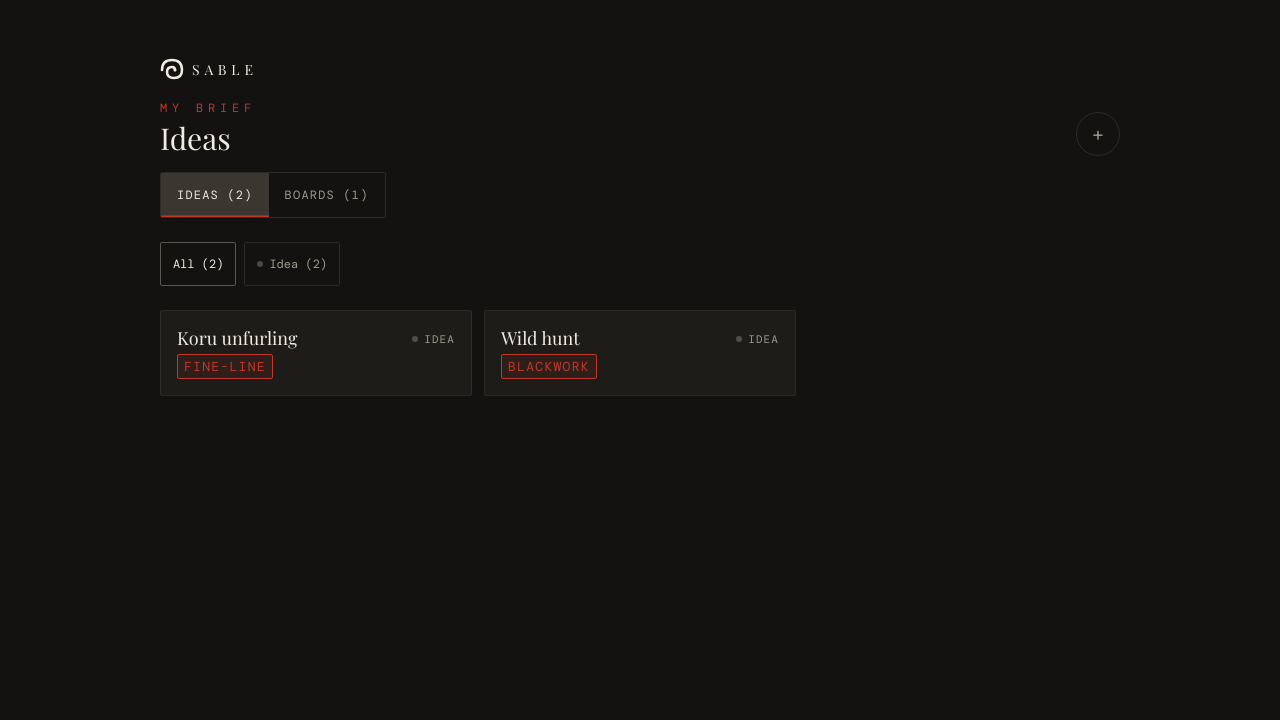
it: Brief Ideas | Boards tabs › switches to Boards and back
Click the button "Boards (1)".
click(327, 195)  # box [269,173,385,217]
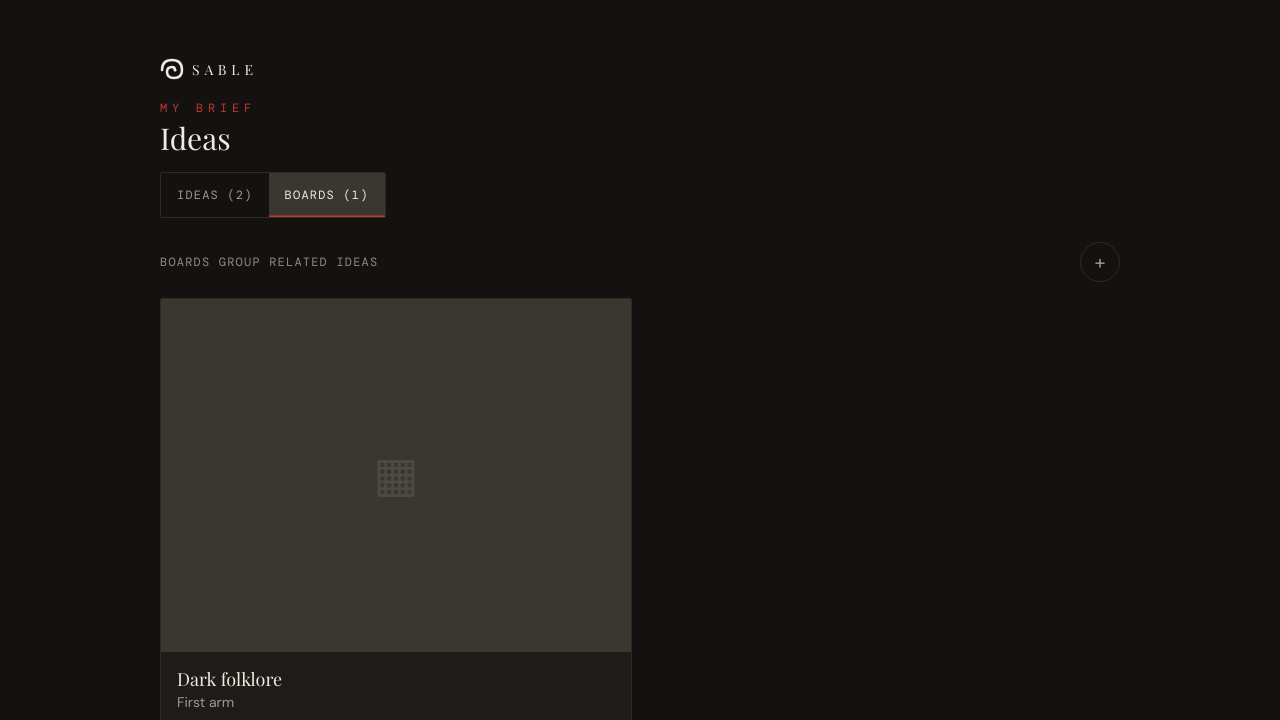
expect the heading "Dark folklore" is shown: met, box [177,666,282,690]
expect the button "Koru unfurling" is gone: met
Click the button "Ideas (2)".
click(215, 195)  # box [161,173,269,217]
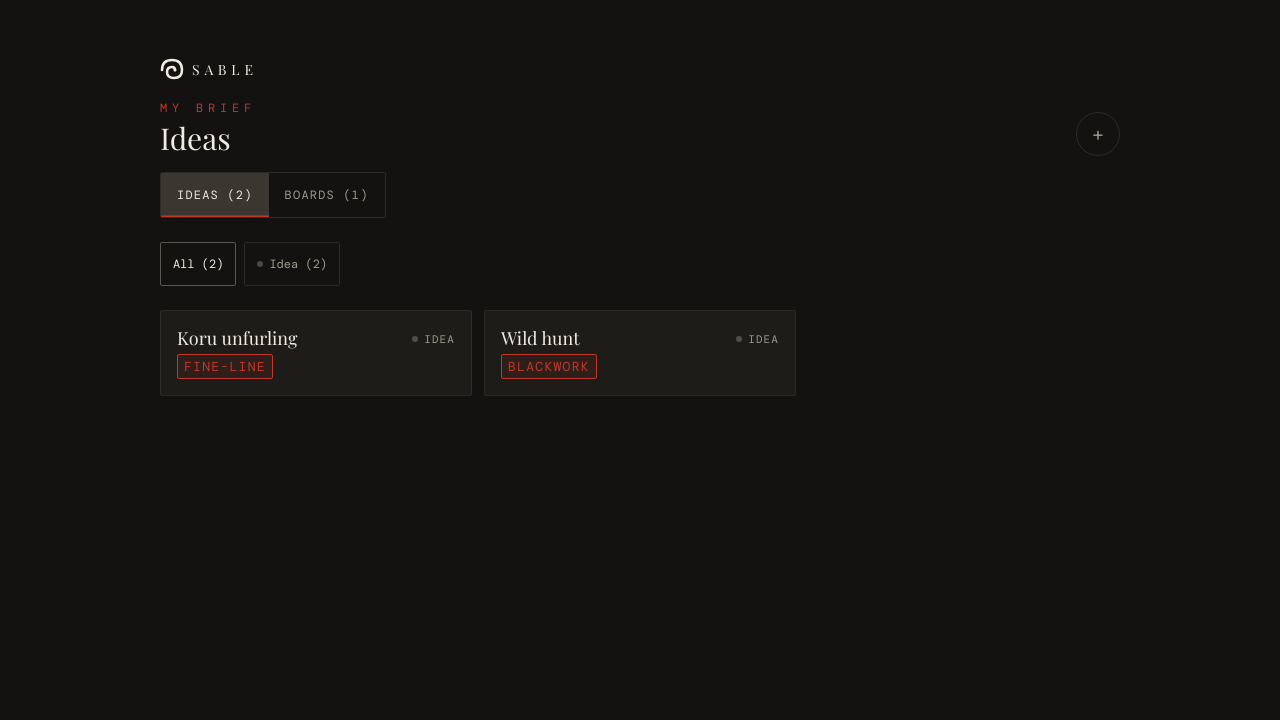
expect the heading "Koru unfurling" is shown: met, box [177,327,297,350]
